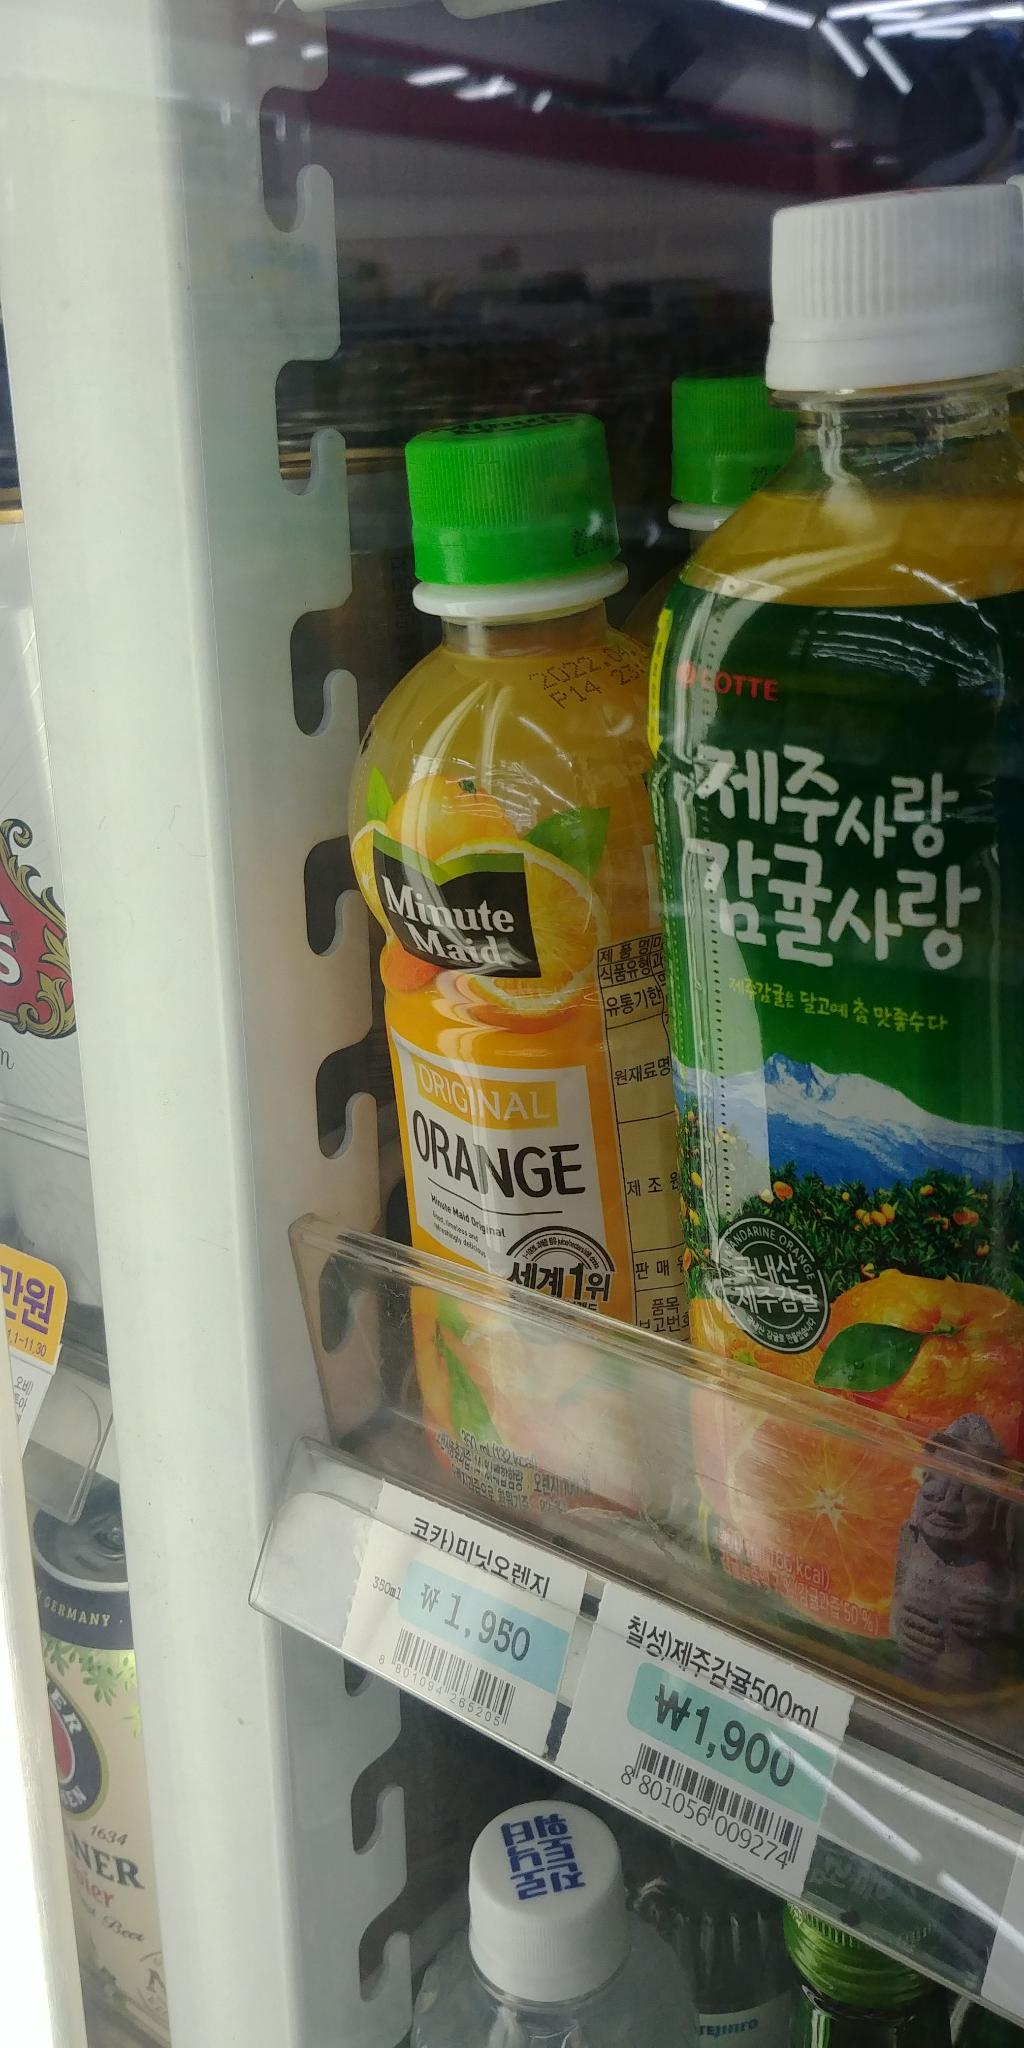minutemaid_org_orange: (347, 387, 718, 1557)
